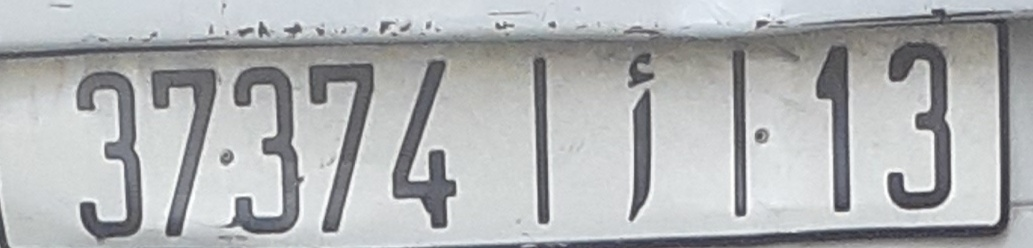1: (811, 42, 860, 216)
3: (878, 37, 957, 216), (227, 62, 305, 240), (69, 69, 149, 242)
4: (387, 55, 465, 232)
7: (303, 59, 378, 232), (147, 65, 220, 240)
a: (620, 50, 665, 223)
